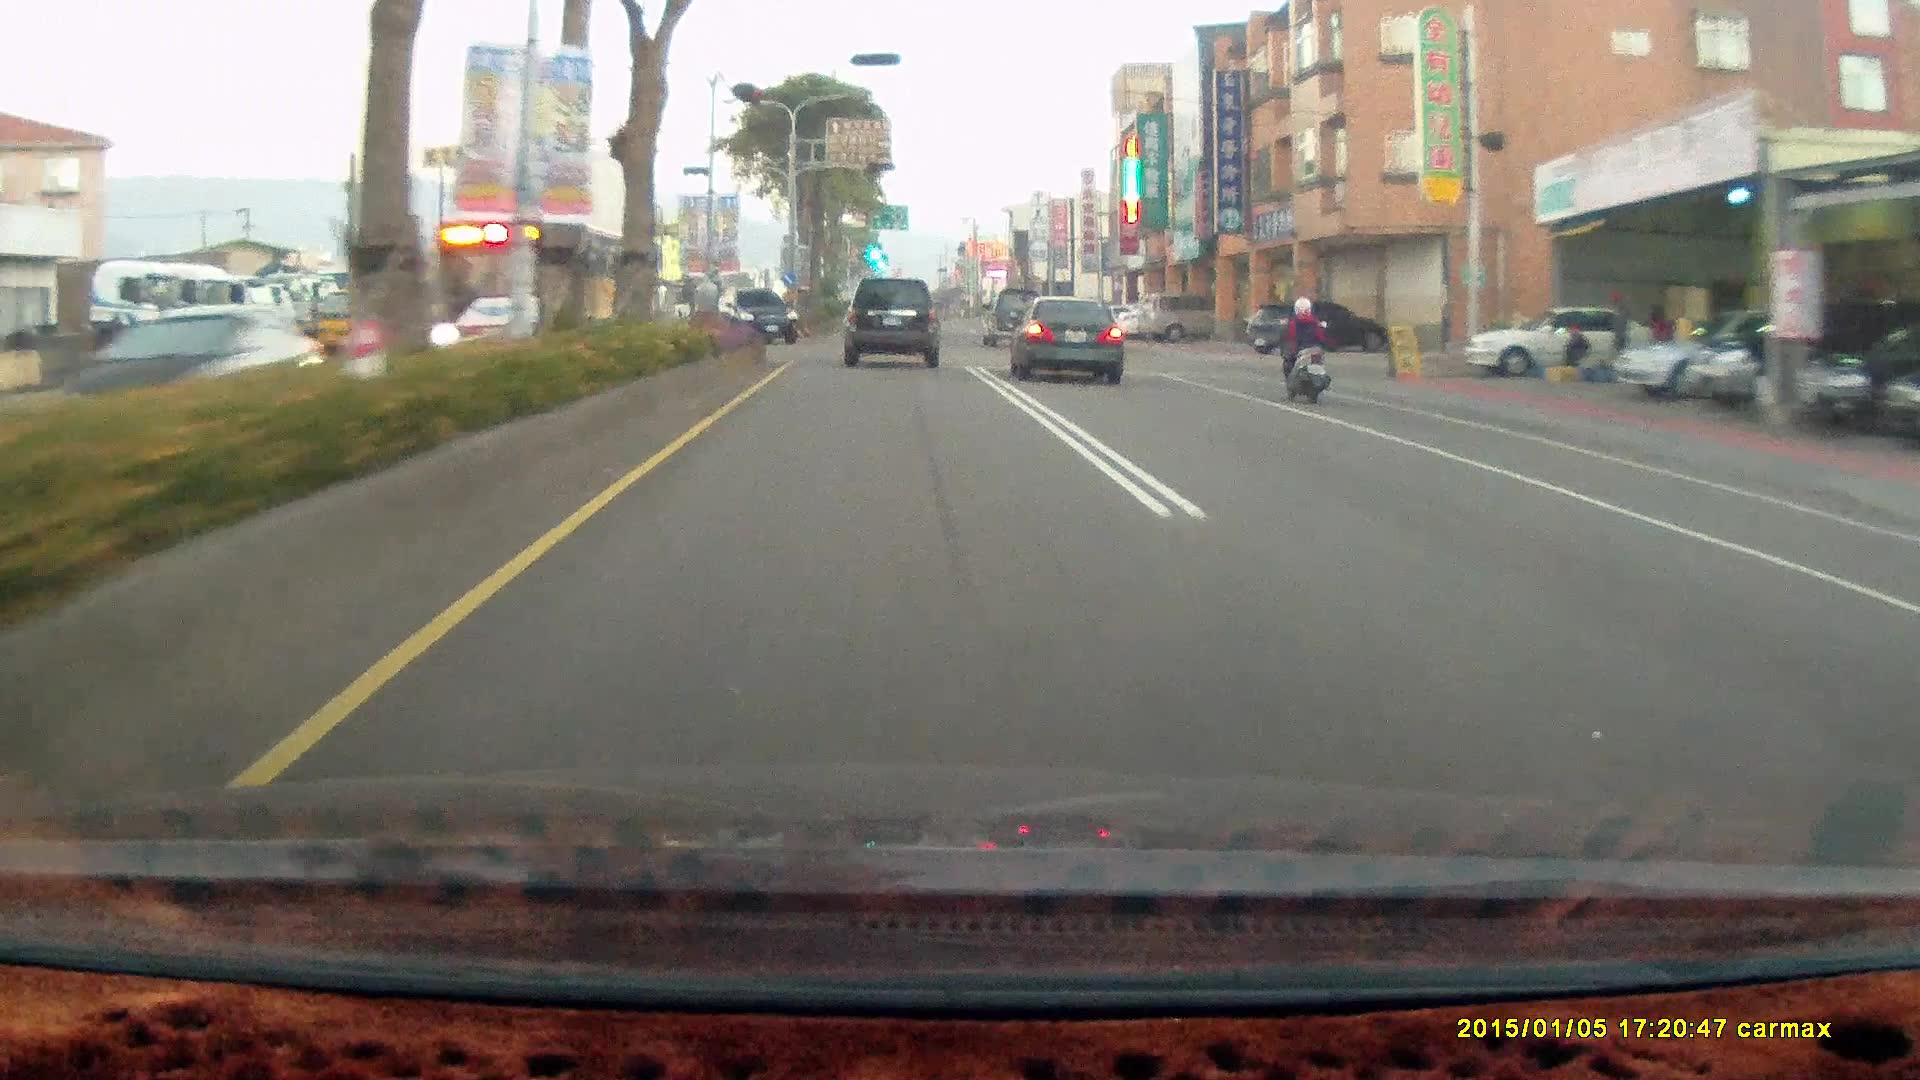pedestrian: (1607, 291, 1633, 378), (1561, 322, 1590, 381), (1646, 304, 1671, 369)
rider: (1267, 285, 1342, 415), (1272, 295, 1330, 402)
vehicle: (408, 214, 665, 364), (60, 303, 327, 430), (433, 216, 658, 364), (60, 303, 327, 408), (1672, 302, 1886, 423), (1685, 299, 1902, 411), (1611, 310, 1857, 405), (1618, 305, 1831, 402), (1450, 304, 1657, 379), (1460, 304, 1658, 378), (1014, 298, 1133, 393), (1814, 326, 1919, 433), (1002, 293, 1122, 382), (841, 281, 945, 372), (841, 277, 940, 368), (1244, 301, 1387, 357), (1245, 302, 1390, 358), (716, 288, 799, 348), (1144, 293, 1239, 343), (715, 287, 799, 342), (1133, 294, 1218, 346), (979, 287, 1044, 346), (1883, 370, 1920, 447)
